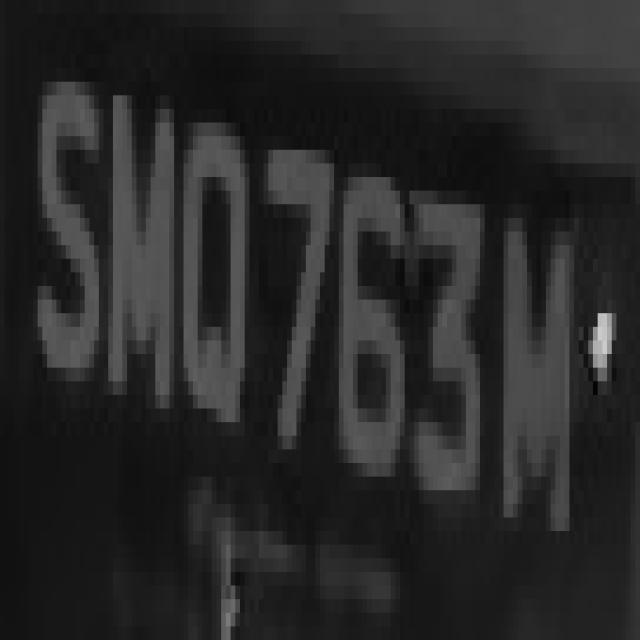3: (410, 150, 490, 544)
6: (334, 123, 414, 531)
7: (240, 109, 339, 504)
M: (489, 177, 588, 586), (99, 68, 174, 477)
Q: (165, 54, 254, 477)
S: (19, 41, 108, 381)
